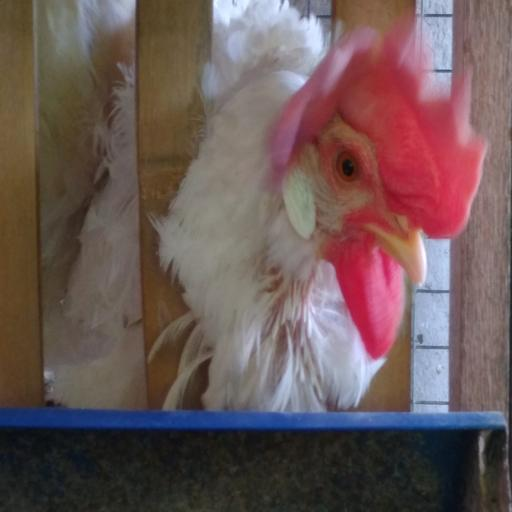healthy: (291, 18, 479, 315)
